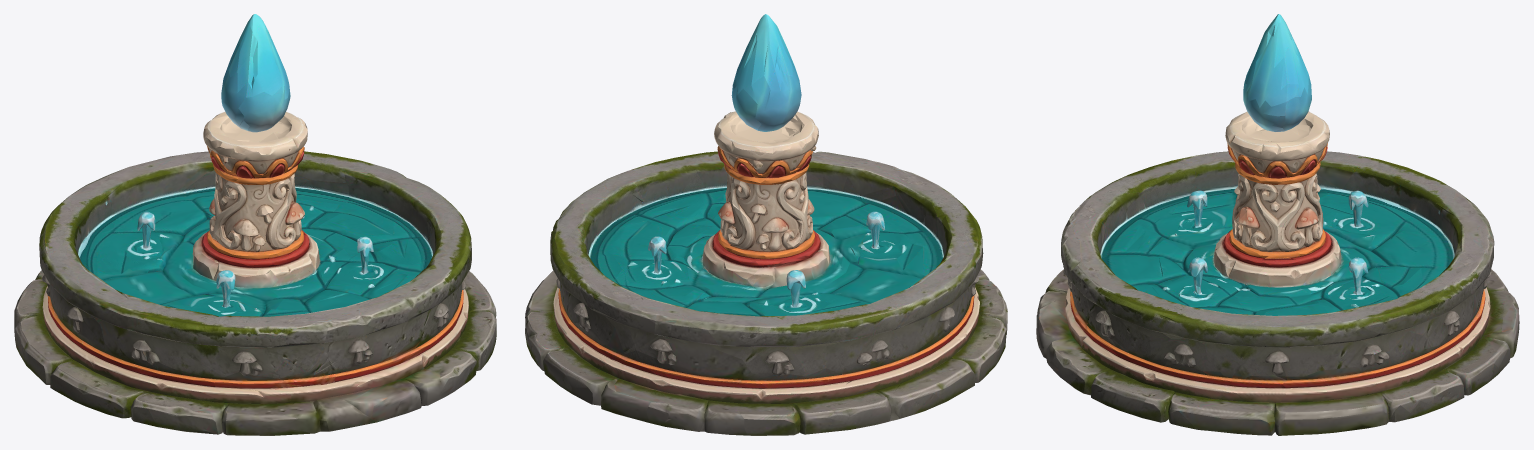
The model's file is ch1_crystal_fountain.fbx.
3 views of the same model, side by side, from view 1: azimuth 30°, elevation 25°; view 2: azimuth 150°, elevation 25°; view 3: azimuth 270°, elevation 25° (orthographic).
Visible parts, largest first — view 1: ch1_crystal_fountain; view 2: ch1_crystal_fountain; view 3: ch1_crystal_fountain.
Boxes of the visible parts, x1,y1,x2,y2 form: ch1_crystal_fountain: (14, 14, 496, 435); ch1_crystal_fountain: (525, 14, 1007, 435); ch1_crystal_fountain: (1036, 14, 1519, 435).
Bounding box in the file's own units: 4.37 × 3.2 × 4.37.
Materials: 1 (1 with a texture image).
